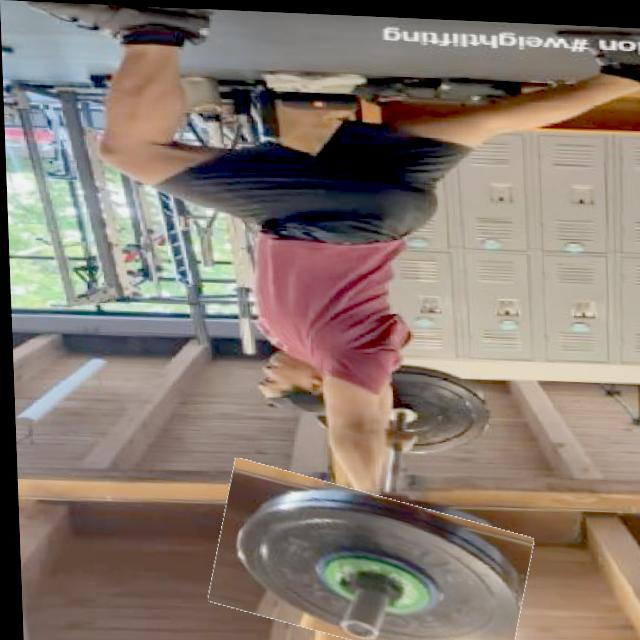barbell: (207, 472, 529, 640)
